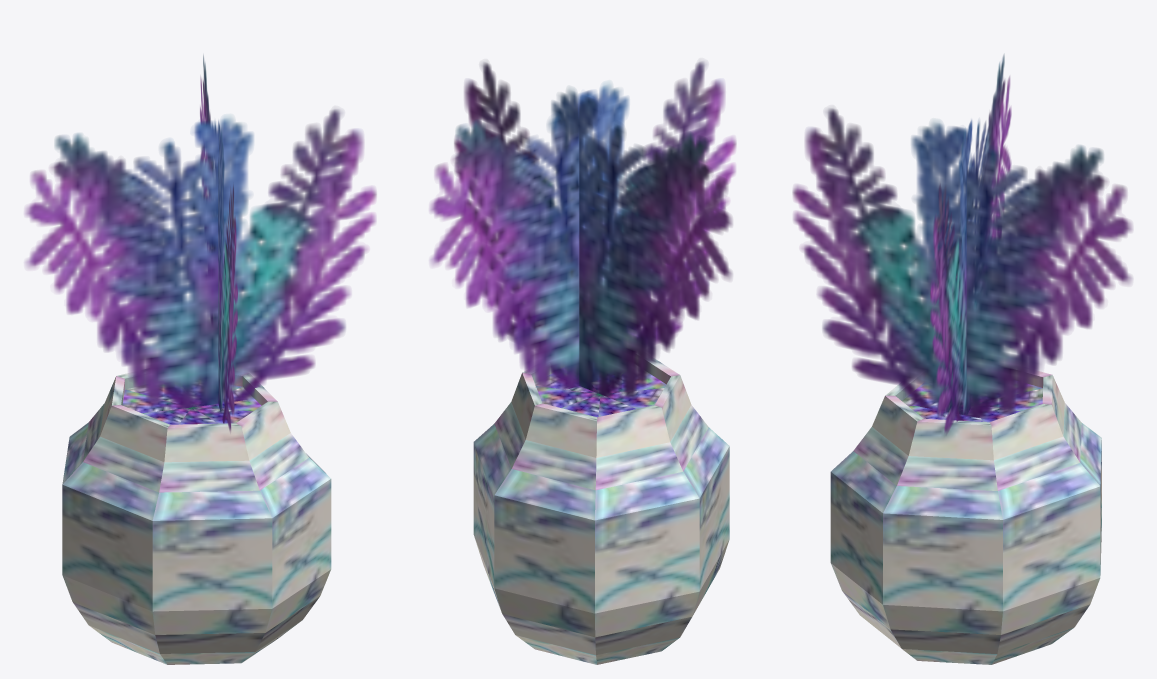
Rendered from Pot_Retro_02.glb.
3 views of the same model, side by side, from view 1: azimuth 30°, elevation 25°; view 2: azimuth 150°, elevation 25°; view 3: azimuth 270°, elevation 25° (orthographic). The views are drawn at different scales.
Parts seen in each view (by area): view 1: Pot_Retro_02; view 2: Pot_Retro_02; view 3: Pot_Retro_02.
Part boxes in pixels (x1,y1,x2,y2): Pot_Retro_02: (24, 55, 376, 664); Pot_Retro_02: (429, 61, 736, 664); Pot_Retro_02: (792, 54, 1132, 664).
Size of the model in its own units: 1.59 by 2.43 by 1.48.
Materials: 3 (3 with a texture image).
